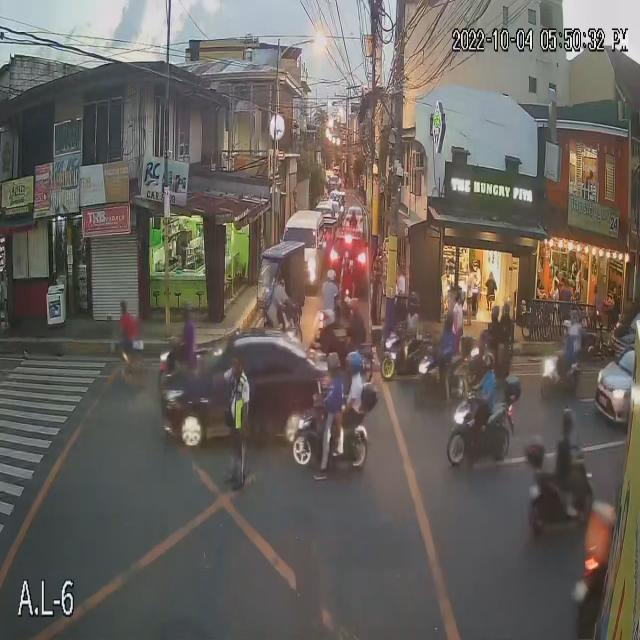helmet: (559, 399, 578, 449), (404, 292, 428, 317), (344, 349, 363, 378), (478, 347, 495, 376), (324, 351, 342, 378), (558, 315, 577, 340), (485, 297, 500, 327), (500, 301, 516, 320), (350, 297, 368, 311), (324, 267, 338, 284)
motorcycle: (284, 406, 374, 471), (446, 401, 514, 470), (530, 462, 591, 535), (380, 330, 435, 374), (307, 298, 350, 343), (541, 356, 586, 395)
rider: (550, 397, 582, 488), (477, 345, 504, 432), (340, 349, 368, 427), (320, 349, 344, 439), (400, 290, 423, 347), (557, 313, 576, 374), (322, 265, 343, 314), (483, 293, 500, 349), (497, 300, 516, 348), (349, 293, 364, 347)
